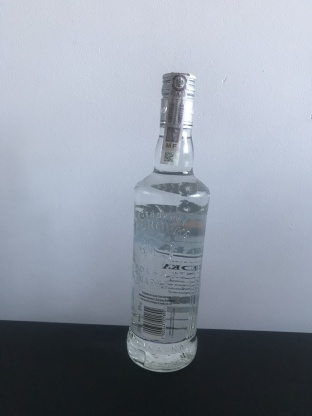nakretka: (157, 67, 198, 131)
